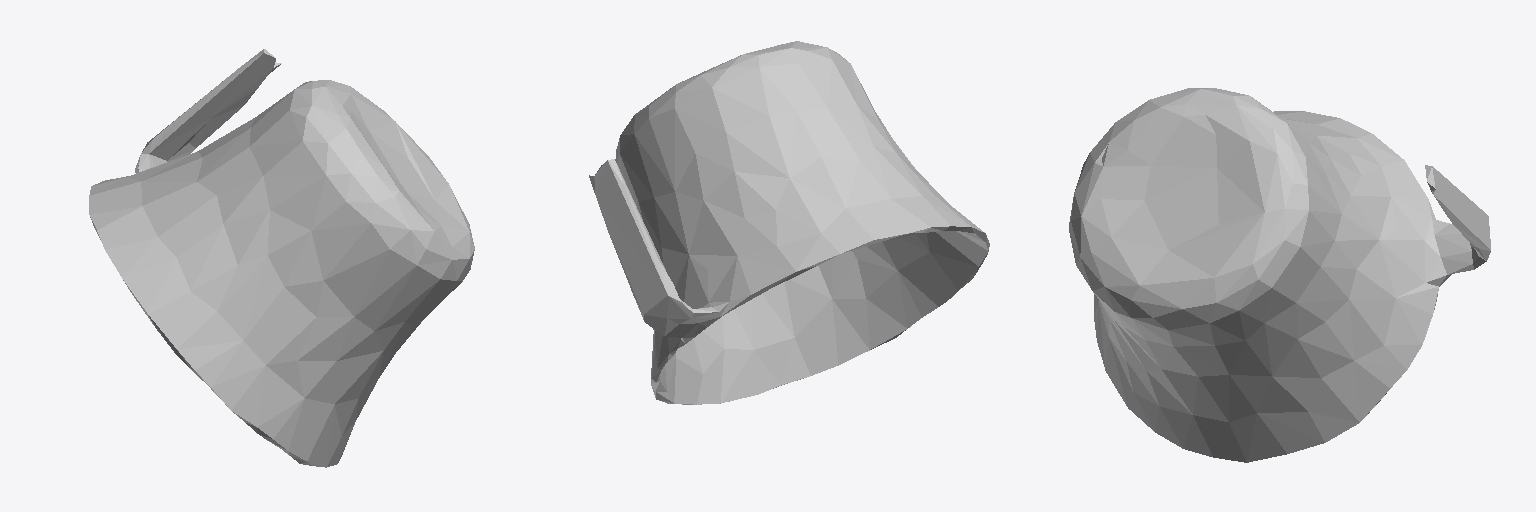
Rendered from mug2.obj.
3 renders of one model, left to right at view 1: azimuth 30°, elevation 25°; view 2: azimuth 150°, elevation 25°; view 3: azimuth 270°, elevation 25°, orthographic.
Visible parts, largest first — view 1: GreenCup_800_tex; view 2: GreenCup_800_tex; view 3: GreenCup_800_tex.
Part boxes in pixels (x1,y1,x2,y2): GreenCup_800_tex: (89,49,474,467); GreenCup_800_tex: (589,41,989,404); GreenCup_800_tex: (1069,88,1490,462).
Size of the model in its own units: 0.045 by 0.0448 by 0.0488.